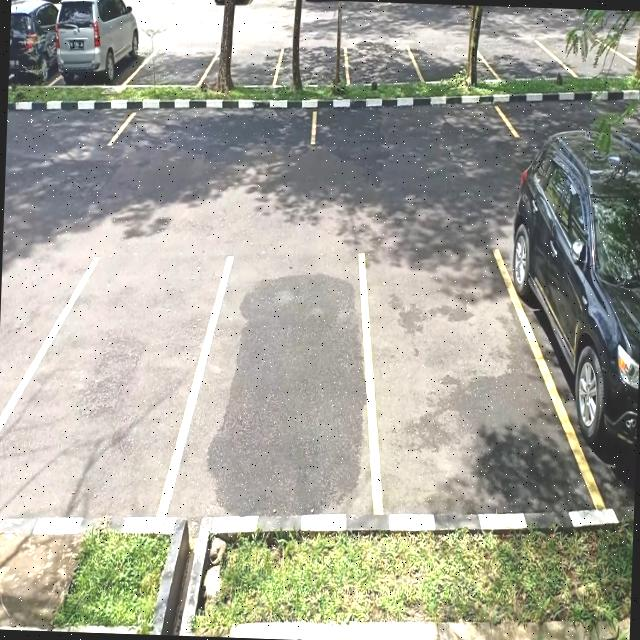empty: (184, 254, 376, 530), (13, 242, 194, 522), (369, 251, 536, 520), (315, 100, 516, 168), (118, 103, 320, 161), (140, 38, 216, 92), (416, 44, 494, 96), (213, 42, 283, 96), (348, 49, 421, 98), (278, 50, 350, 98), (488, 48, 560, 90)
occupied: (517, 175, 640, 515), (51, 9, 144, 94)
